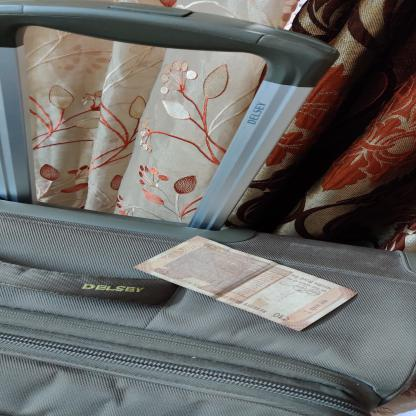New10Back: (133, 235, 357, 332)
